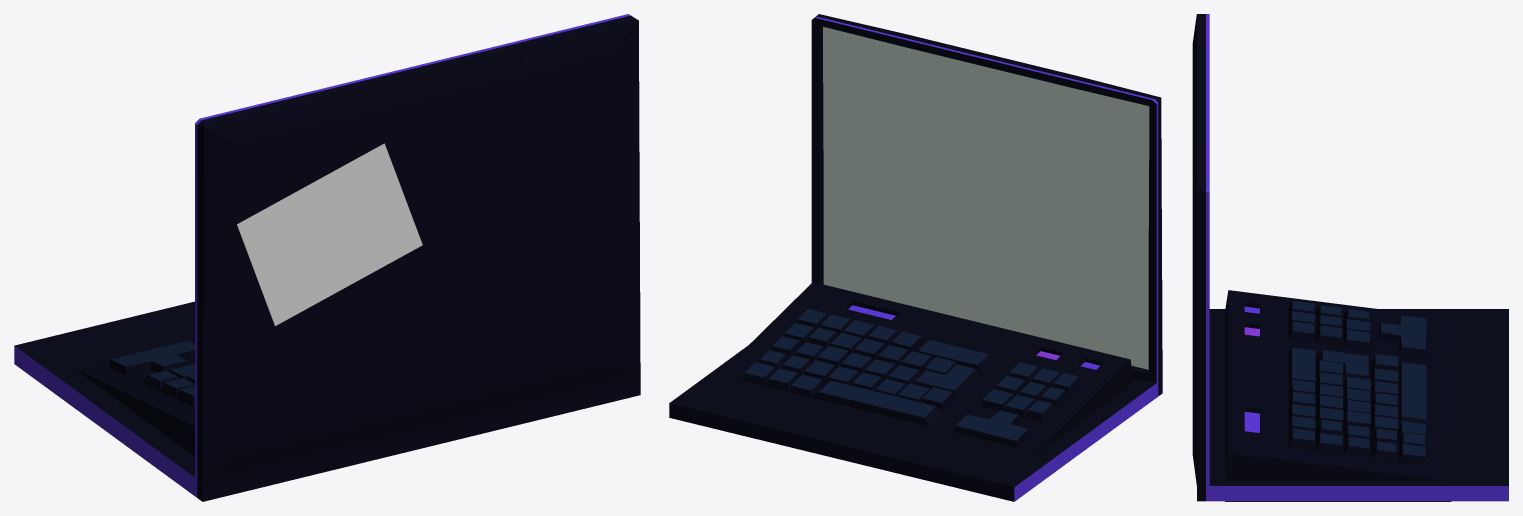
The model's file is Theftable_Laptop_Open.fbx.
The picture shows the model from 3 angles, left to right: view 1: azimuth 30°, elevation 25°; view 2: azimuth 150°, elevation 25°; view 3: azimuth 270°, elevation 25°; orthographic projection. The views are drawn at different scales.
Visible parts, largest first — view 1: Cube.251; view 2: Cube.251; view 3: Cube.251.
Part boxes in pixels (<box>): Cube.251: <box>14,14,640,501</box>; Cube.251: <box>669,14,1162,501</box>; Cube.251: <box>1192,14,1508,501</box>.
Size of the model in its own units: 42.49 by 35.58 by 32.22.
